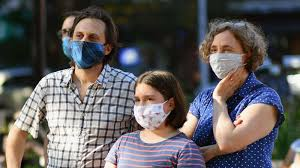FaceMask: (71, 41, 105, 69), (133, 103, 169, 129), (209, 53, 241, 79)
